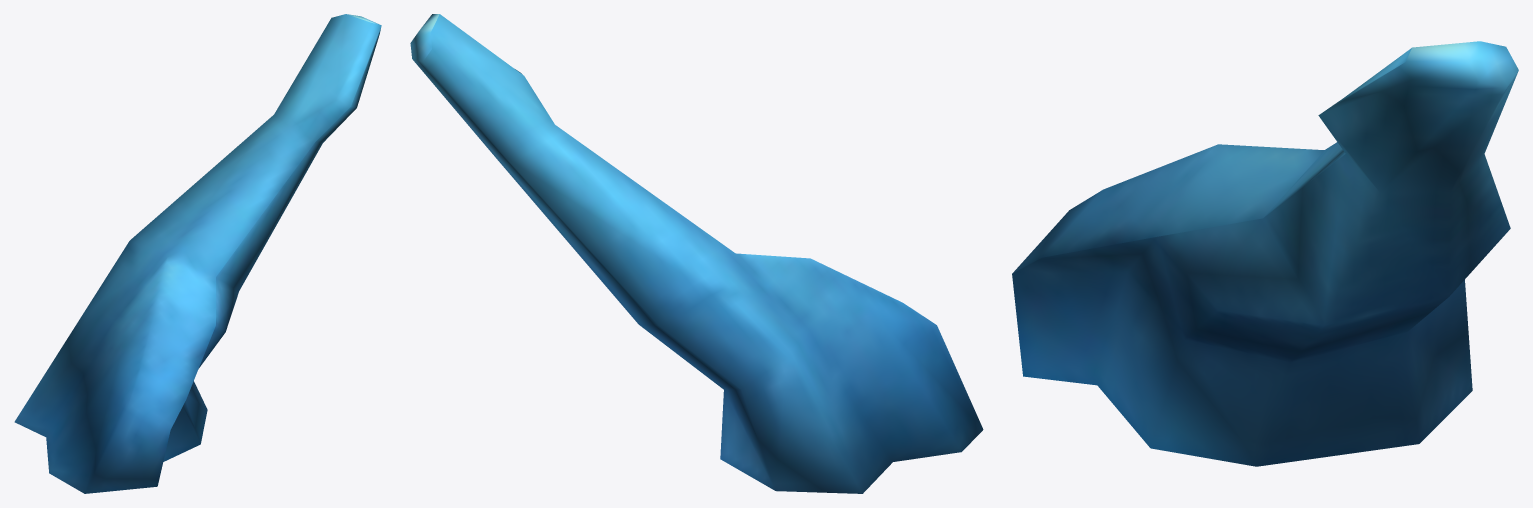
The model's file is Stage_BingYuan_BingLing15.FBX.
The picture shows the model from 3 angles, left to right: view 1: azimuth 30°, elevation 25°; view 2: azimuth 150°, elevation 25°; view 3: azimuth 270°, elevation 25°; orthographic projection. The views are drawn at different scales.
Visible parts, largest first — view 1: Stage_BingYuan_BingLing15; view 2: Stage_BingYuan_BingLing15; view 3: Stage_BingYuan_BingLing15.
Part boxes in pixels (x1,y1,x2,y2): Stage_BingYuan_BingLing15: (14, 14, 381, 493); Stage_BingYuan_BingLing15: (410, 14, 983, 493); Stage_BingYuan_BingLing15: (1012, 41, 1518, 466).
Size of the model in its own units: 83.43 by 65.54 by 47.2.
